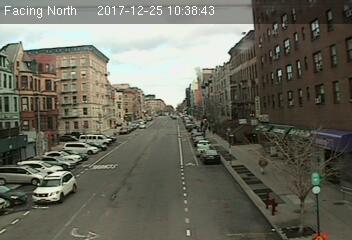car: (202, 149, 220, 165)
pedestrian: (258, 155, 269, 177)
